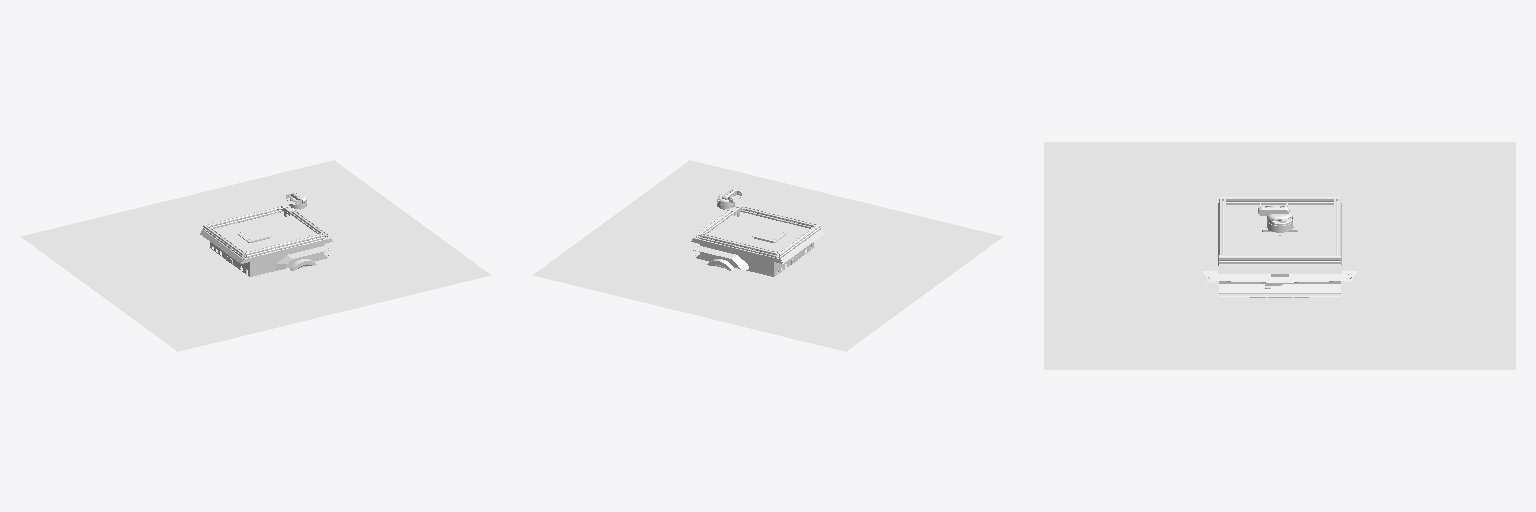
The robot description file, URDF, robot "eduro":
<?xml version="1.0" encoding="utf-8"?>
<!-- This URDF was automatically created by SolidWorks to URDF Exporter! Originally created by [author] ([email redacted]) 
     Commit Version: 1.5.1-0-g916b5db  Build Version: 1.5.7152.31018
     For more information, please see http://wiki.ros.org/sw_urdf_exporter -->
<robot name="eduro">
  <link
    name="base_footprint">
    <inertial>
      <origin
        xyz="-0.0388316491005216 -1.74996533547261E-05 0.117505193303823"
        rpy="0 0 0" />
      <mass
        value="14.6929531714856" />
      <inertia
        ixx="0.216253664245596"
        ixy="0.000298710046533382"
        ixz="0.00162649851829905"
        iyy="0.262974059615318"
        iyz="4.18191828232919E-05"
        izz="0.371045683611722" />
    </inertial>
    <visual>
      <origin
        xyz="0 0 0"
        rpy="0 0 0" />
      <geometry>
        <mesh
          filename="package://edubot_bringup/meshes/foot_print_link.STL" />
      </geometry>
      <material
        name="">
        <color
          rgba="1 1 1 1" />
      </material>
    </visual>
    <collision>
      <origin
        xyz="0 0 0"
        rpy="0 0 0" />
      <geometry>
        <mesh
          filename="package://edubot_bringup/meshes/foot_print_link.STL" />
      </geometry>
    </collision>
  </link>
  <link
    name="base_link">
    <inertial>
      <origin
        xyz="0 0 0"
        rpy="0 0 0" />
      <mass
        value="13.072723" />
      <inertia
        ixx="0.18142415"
        ixy="-0.0002844"
        ixz="-0.00557763"
        iyy="0.20788446"
        iyz="-4.221E-05"
        izz="0.29582098" />
    </inertial>
    <visual>
      <origin
        xyz="0 0 0"
        rpy="0 0 0" />
      <geometry>
        <mesh
          filename="package://edubot_bringup/meshes/base_Link.STL" />
      </geometry>
      <material
        name="">
        <color
          rgba="1 1 1 1" />
      </material>
    </visual>
    <collision>
      <origin
        xyz="0 0 0"
        rpy="0 0 0" />
      <geometry>
        <mesh
          filename="package://edubot_bringup/meshes/base_Link.STL" />
      </geometry>
    </collision>
  </link>
  <joint
    name="base_joint"
    type="fixed">
    <origin
      xyz="0 0 0"
      rpy="0 0 0" />
    <parent
      link="base_footprint" />
    <child
      link="base_link" />
    <axis
      xyz="0 0 0" />
  </joint>
  <link
    name="wheel_right_link">
    <inertial>
      <origin
        xyz="0 0 0"
        rpy="0 0 0" />
      <mass
        value="0.34675" />
      <inertia
        ixx="0.0006489"
        ixy="0"
        ixz="0"
        iyy="0.001271"
        iyz="0"
        izz="0.0006489" />
    </inertial>
    <visual>
      <origin
        xyz="0 0 0"
        rpy="0 0 0" />
      <geometry>
        <mesh
          filename="package://edubot_bringup/meshes/right_wheel_Link.STL" />
      </geometry>
      <material
        name="">
        <color
          rgba="1 1 1 1" />
      </material>
    </visual>
    <collision>
      <origin
        xyz="0 0 0"
        rpy="0 0 0" />
      <geometry>
        <mesh
          filename="package://edubot_bringup/meshes/right_wheel_Link.STL" />
      </geometry>
    </collision>
  </link>
  <joint
    name="right_wheel_joint"
    type="continuous">
    <origin
      xyz="0.0523963621561544 -0.193478459 -0.0438592230908529"
      rpy="0 0 0" />
    <parent
      link="base_link" />
    <child
      link="wheel_right_link" />
    <axis
      xyz="0 1 0" />
  </joint>
  <link
    name="wheel_left_link">
    <inertial>
      <origin
        xyz="0 0 0"
        rpy="0 0 0" />
      <mass
        value="0.34675" />
      <inertia
        ixx="0.0006489"
        ixy="0"
        ixz="0"
        iyy="0.001271"
        iyz="0"
        izz="0.0006489" />
    </inertial>
    <visual>
      <origin
        xyz="0 0 0"
        rpy="0 0 0" />
      <geometry>
        <mesh
          filename="package://edubot_bringup/meshes/left_wheel_Link.STL" />
      </geometry>
      <material
        name="">
        <color
          rgba="1 1 1 1" />
      </material>
    </visual>
    <collision>
      <origin
        xyz="0 0 0"
        rpy="0 0 0" />
      <geometry>
        <mesh
          filename="package://edubot_bringup/meshes/left_wheel_Link.STL" />
      </geometry>
    </collision>
  </link>
  <joint
    name="left_wheel_joint"
    type="continuous">
    <origin
      xyz="0.052396362156153 0.193509505 -0.0438592230908542"
      rpy="0 0 0" />
    <parent
      link="base_link" />
    <child
      link="wheel_left_link" />
    <axis
      xyz="0 1 0" />
  </joint>
  <link
    name="caster_wheel_Link1">
    <inertial>
      <origin
        xyz="0 0 0"
        rpy="0 0 0" />
      <mass
        value="0.15875" />
      <inertia
        ixx="4.83E-05"
        ixy="0"
        ixz="0"
        iyy="5.217E-05"
        iyz="0"
        izz="4.294E-05" />
    </inertial>
    <visual>
      <origin
        xyz="0 0 0"
        rpy="0 0 0" />
      <geometry>
        <mesh
          filename="package://edubot_bringup/meshes/caster_wheel_Link1.STL" />
      </geometry>
      <material
        name="">
        <color
          rgba="1 1 1 1" />
      </material>
    </visual>
    <collision>
      <origin
        xyz="0 0 0"
        rpy="0 0 0" />
      <geometry>
        <mesh
          filename="package://edubot_bringup/meshes/caster_wheel_Link1.STL" />
      </geometry>
    </collision>
  </link>
  <joint
    name="caster_wheel_joint1"
    type="continuous">
    <origin
      xyz="-0.22523 1.5165E-05 -0.059419"
      rpy="0 0 0" />
    <parent
      link="base_link" />
    <child
      link="caster_wheel_Link1" />
    <axis
      xyz="0 0 1" />
  </joint>
  <link
    name="caster_wheel_Link2">
    <inertial>
      <origin
        xyz="0 0 0"
        rpy="0 0 0" />
      <mass
        value="0.036792" />
      <inertia
        ixx="7.4436E-06"
        ixy="0"
        ixz="0"
        iyy="1.2795E-05"
        iyz="0"
        izz="7.4436E-06" />
    </inertial>
    <visual>
      <origin
        xyz="0 0 0"
        rpy="0 0 0" />
      <geometry>
        <mesh
          filename="package://edubot_bringup/meshes/caster_wheel_Link2.STL" />
      </geometry>
      <material
        name="">
        <color
          rgba="1 1 1 1" />
      </material>
    </visual>
    <collision>
      <origin
        xyz="0 0 0"
        rpy="0 0 0" />
      <geometry>
        <mesh
          filename="package://edubot_bringup/meshes/caster_wheel_Link2.STL" />
      </geometry>
    </collision>
  </link>
  <joint
    name="caster_wheel_joint2"
    type="continuous">
    <origin
      xyz="-0.021379 0 -0.03444"
      rpy="0 0 0" />
    <parent
      link="caster_wheel_Link1" />
    <child
      link="caster_wheel_Link2" />
    <axis
      xyz="0 1 0" />
  </joint>
  <link
    name="camera_Link">
    <inertial>
      <origin
        xyz="-0.033493 -0.0175 -0.0052282"
        rpy="0 0 0" />
      <mass
        value="0.076213" />
      <inertia
        ixx="5.7704E-05"
        ixy="6.8829E-20"
        ixz="-3.391E-07"
        iyy="7.4478E-06"
        iyz="1.0525E-19"
        izz="5.985E-05" />
    </inertial>
    <visual>
      <origin
        xyz="0 0 0"
        rpy="0 0 0" />
      <geometry>
        <mesh
          filename="package://edubot_bringup/meshes/camera_Link.STL" />
      </geometry>
      <material
        name="">
        <color
          rgba="1 1 1 1" />
      </material>
    </visual>
    <collision>
      <origin
        xyz="0 0 0"
        rpy="0 0 0" />
      <geometry>
        <mesh
          filename="package://edubot_bringup/meshes/camera_Link.STL" />
      </geometry>
    </collision>
  </link>
  <joint
    name="camera_joint"
    type="fixed">
    <origin
      xyz="0.1395 0.00 0.23"
      rpy="0 0 0" />
    <parent
      link="base_link" />
    <child
      link="camera_Link" />
    <axis
      xyz="0 0 0" />
  </joint>
  <link
    name="lidar_link">
    <inertial>
      <origin
        xyz="-0.013504 -0.00050756 -0.0062451"
        rpy="0 0 0" />
      <mass
        value="0.23332" />
      <inertia
        ixx="9.9832E-05"
        ixy="-1.4969E-06"
        ixz="1.2739E-05"
        iyy="0.00016209"
        iyz="-8.0854E-08"
        izz="0.00024687" />
    </inertial>
    <visual>
      <origin
        xyz="0 0 0"
        rpy="0 0 0" />
      <geometry>
        <mesh
          filename="package://edubot_bringup/meshes/Lidar_Link.STL" />
      </geometry>
      <material
        name="">
        <color
          rgba="1 1 1 1" />
      </material>
    </visual>
    <collision>
      <origin
        xyz="0 0 0"
        rpy="0 0 0" />
      <geometry>
        <mesh
          filename="package://edubot_bringup/meshes/Lidar_Link.STL" />
      </geometry>
    </collision>
  </link>
  <joint
    name="Lidar_joint"
    type="fixed">
    <origin
      xyz="0.1395 0.00 0.187"
      rpy="3.1415 0 0" />
    <parent
      link="base_link" />
    <child
      link="lidar_link" />
    <axis
      xyz="0 0 0" />
  </joint>
  <link
    name="robopads_Link">
    <inertial>
      <origin
        xyz="-0.028726 -1.7647E-16 2.2898E-16"
        rpy="0 0 0" />
      <mass
        value="0.48218" />
      <inertia
        ixx="0.00141423"
        ixy="0"
        ixz="0"
        iyy="0.00020317"
        iyz="0"
        izz="0.00140436" />
    </inertial>
    <visual>
      <origin
        xyz="0 0 0"
        rpy="0 0 0" />
      <geometry>
        <mesh
          filename="package://edubot_bringup/meshes/robopads_Link.STL" />
      </geometry>
      <material
        name="">
        <color
          rgba="1 1 1 1" />
      </material>
    </visual>
    <collision>
      <origin
        xyz="0 0 0"
        rpy="0 0 0" />
      <geometry>
        <mesh
          filename="package://edubot_bringup/meshes/robopads_Link.STL" />
      </geometry>
    </collision>
  </link>
  <joint
    name="robopads_joint"
    type="fixed">
    <origin
      xyz="0.253396362156155 1.55230000039606E-05 -0.0348592230908565"
      rpy="0 0 0" />
    <parent
      link="base_link" />
    <child
      link="robopads_Link" />
    <axis
      xyz="0 0 0" />
  </joint>
</robot>

--- What the picture shows (computed from the rendered views, not written in the file) ---
Views: 3 orthographic renders of the robot side by side, from view 1: azimuth 30°, elevation 25°; view 2: azimuth 150°, elevation 25°; view 3: azimuth 270°, elevation 25°.
Robot: eduro — 9 links, 8 joints (4 continuous, 4 fixed); root link base_footprint; default pose: all joints at 0.
Links seen in each view (by area): view 1: base_footprint, base_link; view 2: base_footprint, base_link; view 3: base_footprint, base_link.
Link boxes in pixels (left/top/right/bottom): base_footprint: left=21, top=160, right=490, bottom=351; base_link: left=200, top=206, right=332, bottom=276; base_footprint: left=533, top=160, right=1002, bottom=351; base_link: left=691, top=206, right=823, bottom=276; base_footprint: left=1044, top=142, right=1515, bottom=369; base_link: left=1202, top=196, right=1357, bottom=296.
Bounding box of the posed robot: 1.52 × 1.32 × 0.3614 m (x, y, z).
9 mesh visuals loaded from 9 distinct referenced files (9 binary STL).